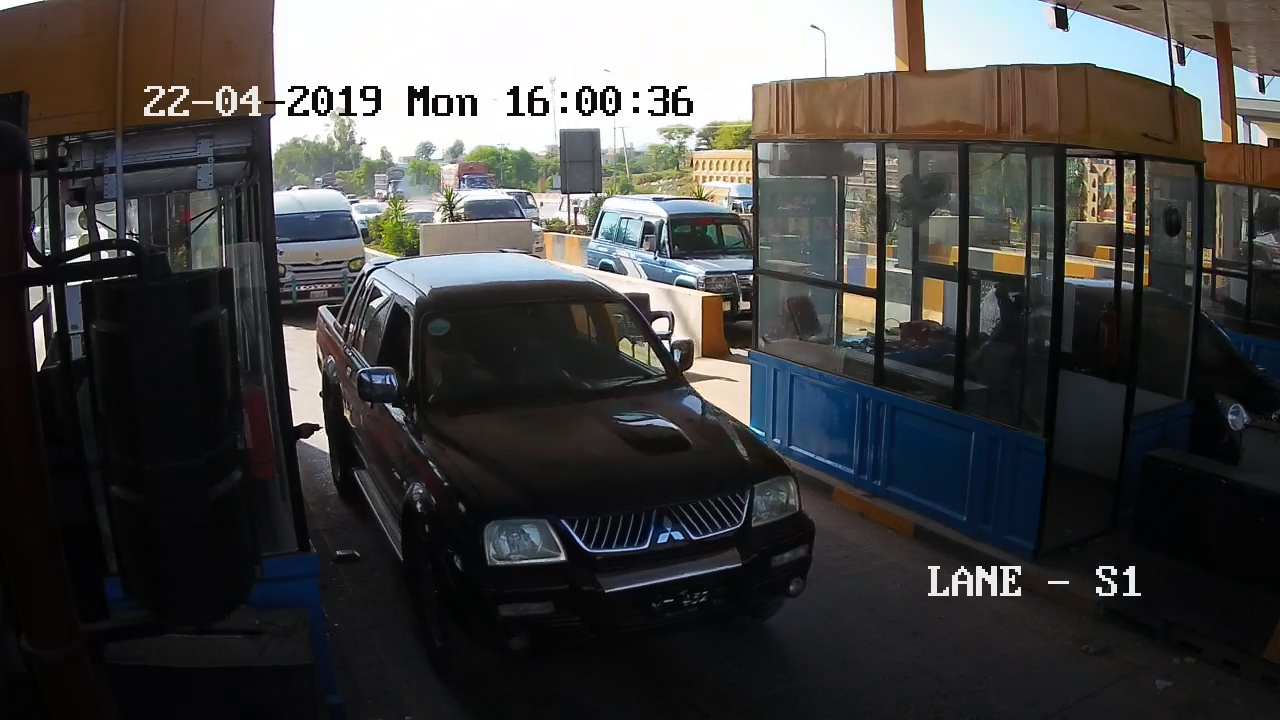car: (308, 263, 843, 681)
